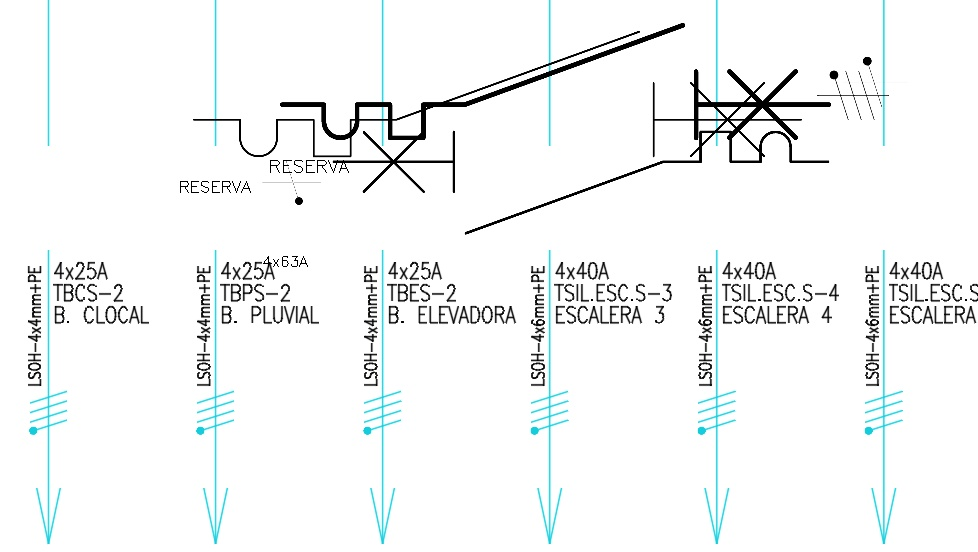interruptor_termomagnetico: (178, 16, 816, 172), (268, 11, 843, 152), (320, 119, 840, 246)
